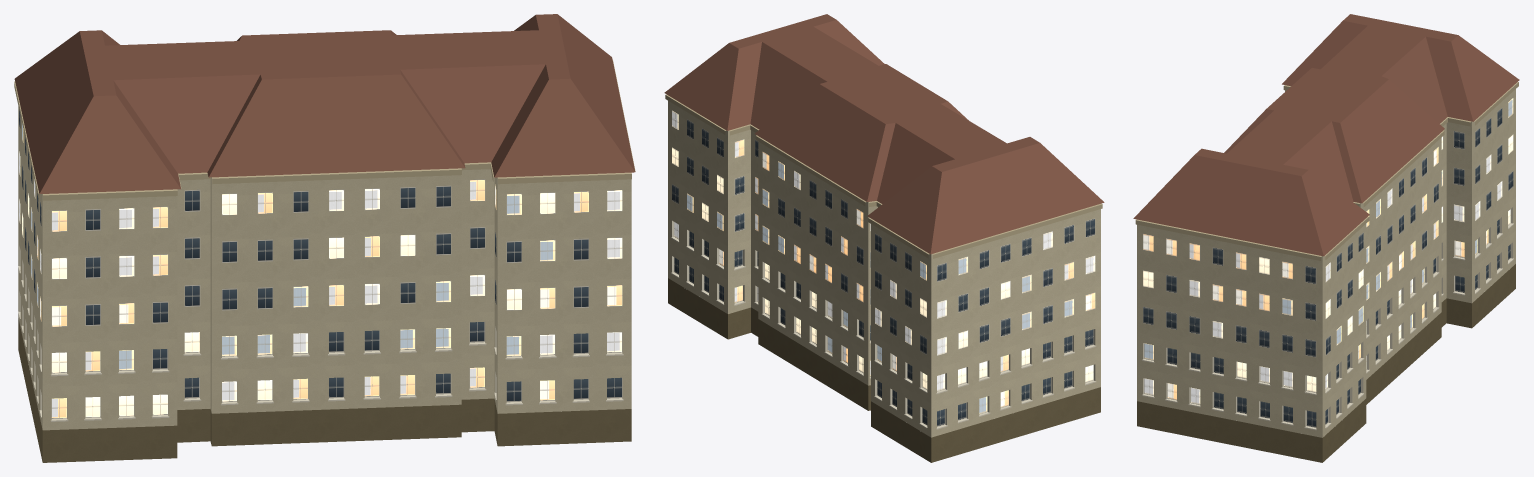
The model's file is sh_wengi.glb.
The picture shows the model from 3 angles, left to right: view 1: azimuth 30°, elevation 25°; view 2: azimuth 150°, elevation 25°; view 3: azimuth 270°, elevation 25°; orthographic projection. The views are drawn at different scales.
Visible parts, largest first — view 1: sh_wengi; view 2: sh_wengi; view 3: sh_wengi.
Boxes of the visible parts, x1=… form: sh_wengi: x1=14, y1=14, x2=635, y2=462; sh_wengi: x1=664, y1=14, x2=1104, y2=462; sh_wengi: x1=1133, y1=14, x2=1519, y2=462.
Size of the model in its own units: 54.9 by 31.4 by 41.93.
3 materials, 3 textured.
